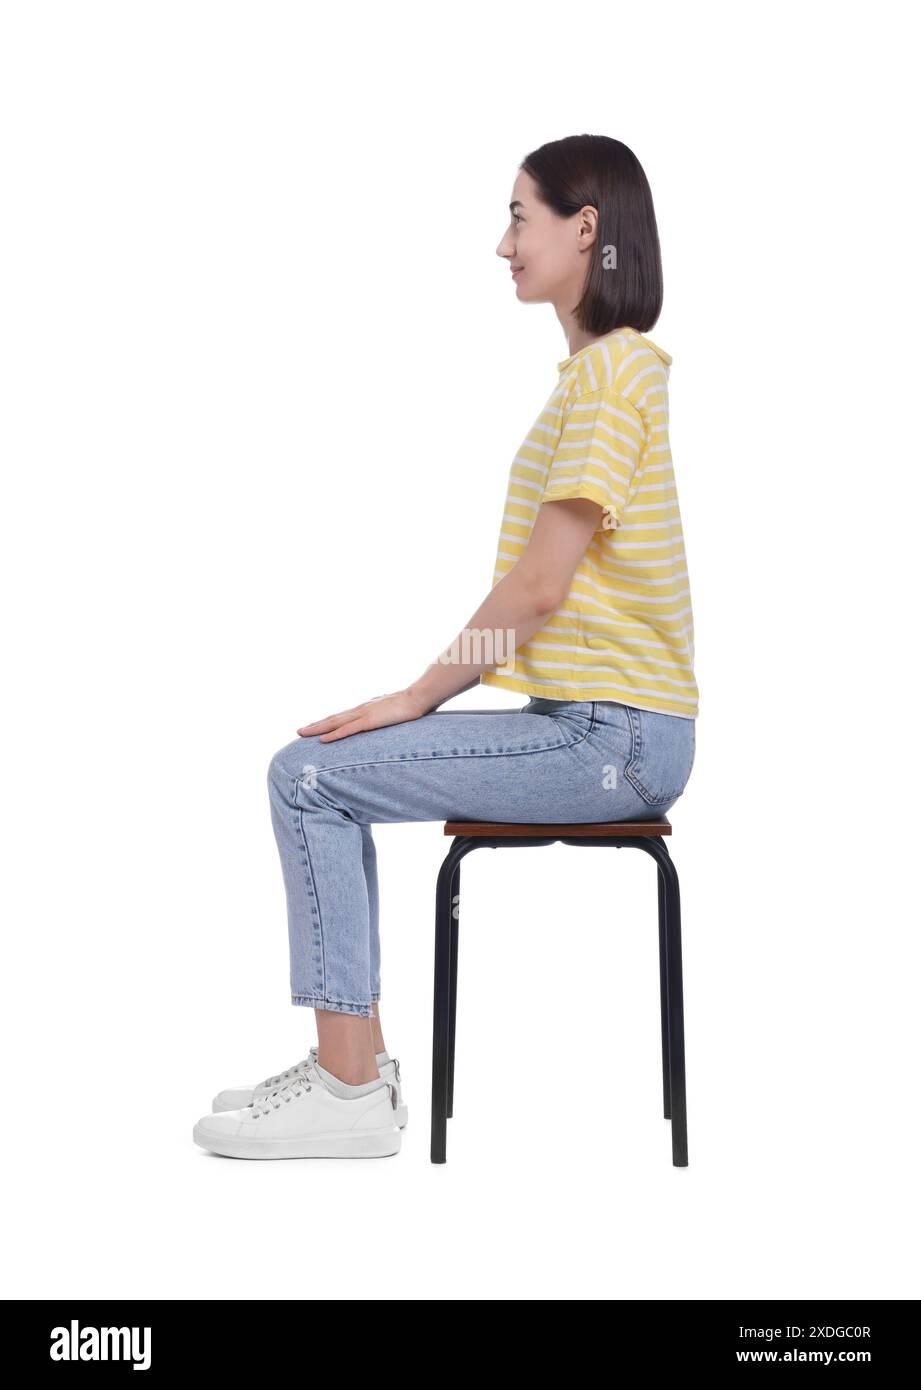Good Sitting Posture: (191, 132, 701, 1163)
